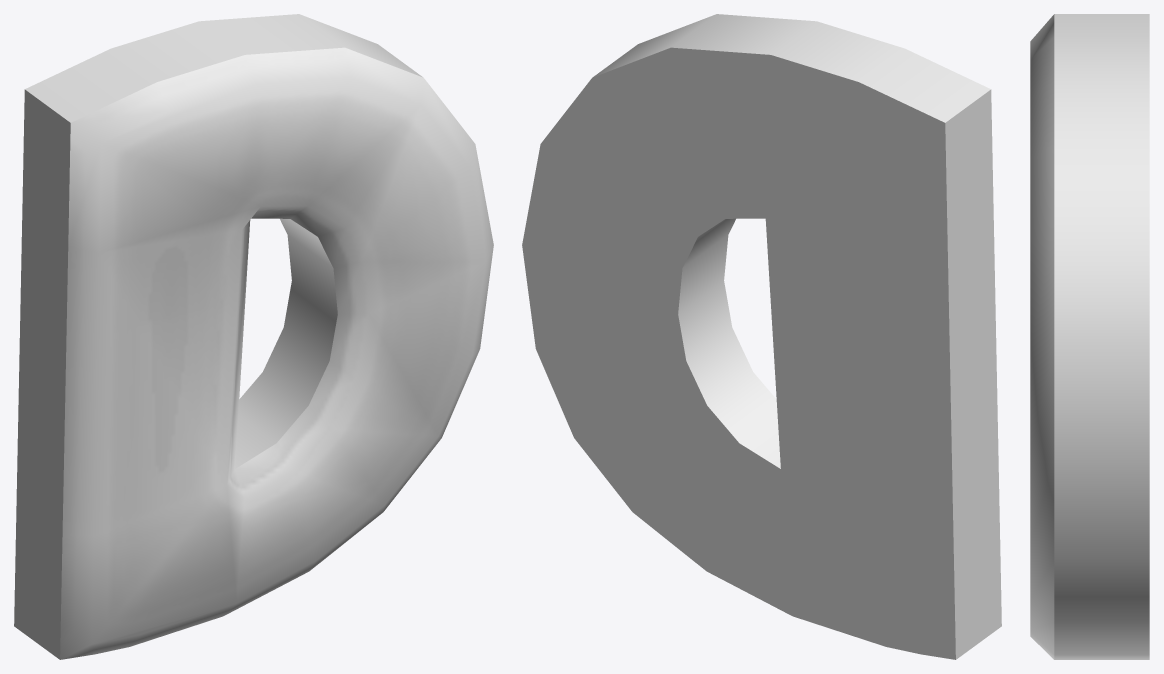
The model's file is LettersStylized01_D.FBX.
3 views of the same model, side by side, from view 1: azimuth 30°, elevation 25°; view 2: azimuth 150°, elevation 25°; view 3: azimuth 270°, elevation 25° (orthographic). The views are drawn at different scales.
Parts seen in each view (by area): view 1: LettersStylized01_D; view 2: LettersStylized01_D; view 3: LettersStylized01_D.
Boxes of the visible parts, left/top/right/bottom form: LettersStylized01_D: left=14, top=14, right=493, bottom=659; LettersStylized01_D: left=522, top=14, right=1001, bottom=659; LettersStylized01_D: left=1030, top=14, right=1149, bottom=659.
Size of what is drawn, in the model's own units: 0.3706 by 0.4604 by 0.085.
